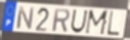2: (34, 7, 52, 32)
L: (106, 10, 120, 37)
M: (84, 9, 110, 37)
N: (15, 6, 35, 31)
R: (52, 8, 71, 33)
U: (70, 9, 89, 35)
